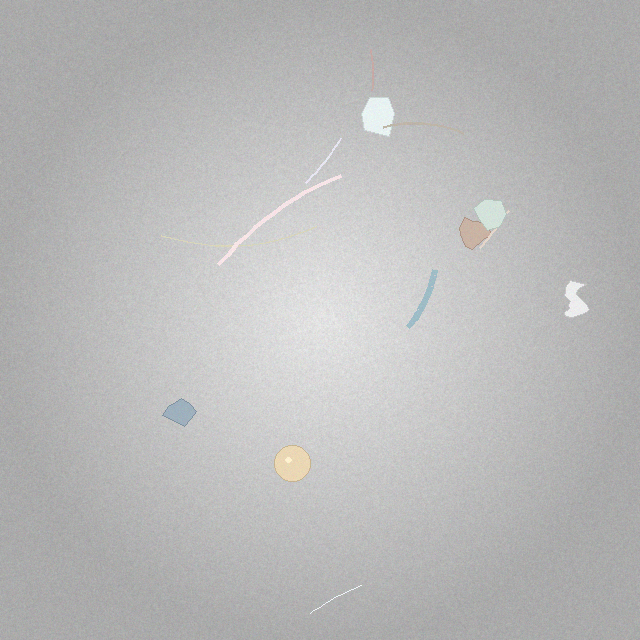fiber: (214, 171, 345, 269), (159, 225, 319, 249), (402, 265, 440, 334), (302, 135, 343, 186), (308, 584, 363, 616), (477, 208, 511, 252), (380, 120, 467, 136), (368, 47, 375, 93)
film: (565, 281, 589, 318)
fragment: (362, 97, 395, 136), (473, 200, 507, 231), (460, 218, 491, 249), (162, 399, 196, 427)
pellet: (274, 445, 310, 482)
